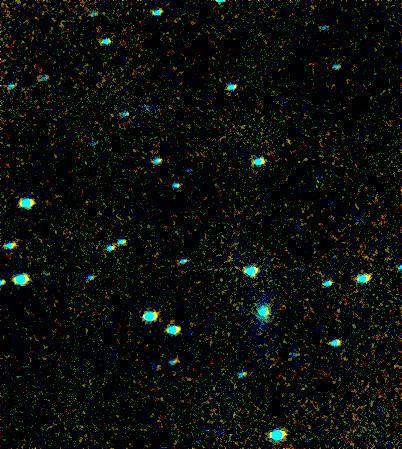star: (269, 86, 299, 116)
